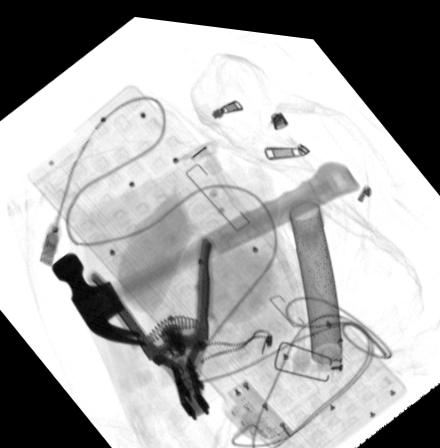Hammer: (51, 152, 362, 341)
Pliers: (87, 232, 214, 414)
